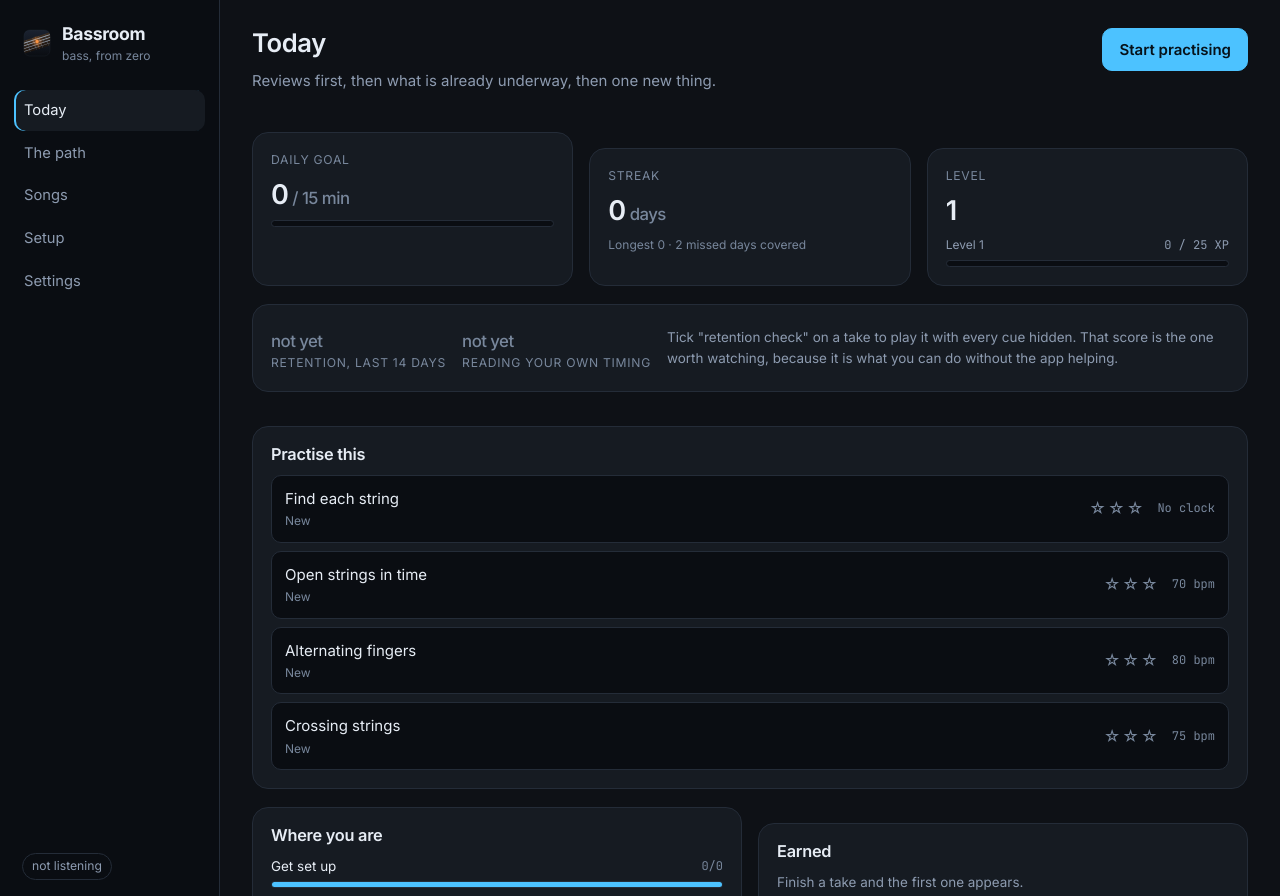
songs › switches song without crashing
Click the button "Songs". click: (110, 196)
box: left=14, top=176, right=205, bottom=216
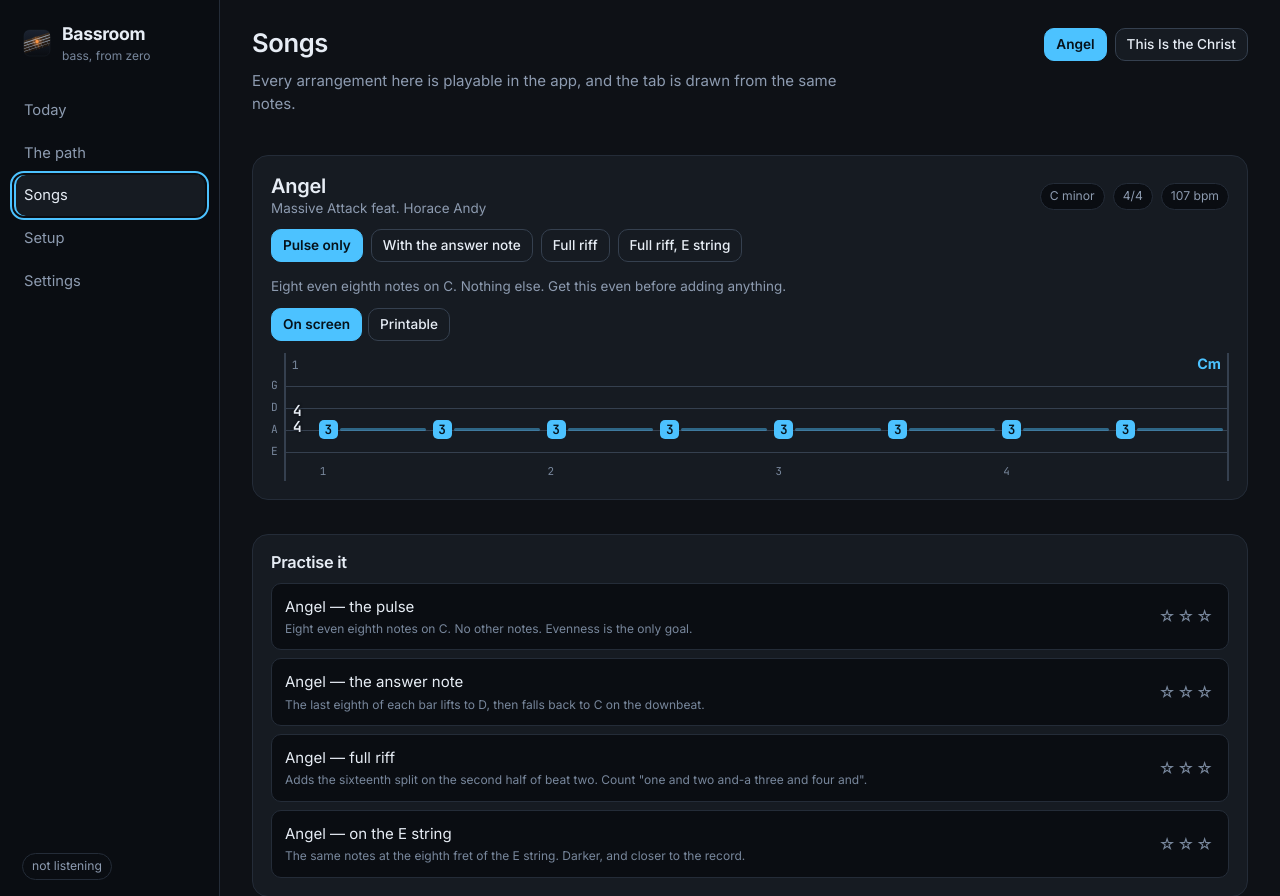
Click the button "This Is the Christ". click: (1181, 45)
box: left=1115, top=28, right=1248, bottom=61
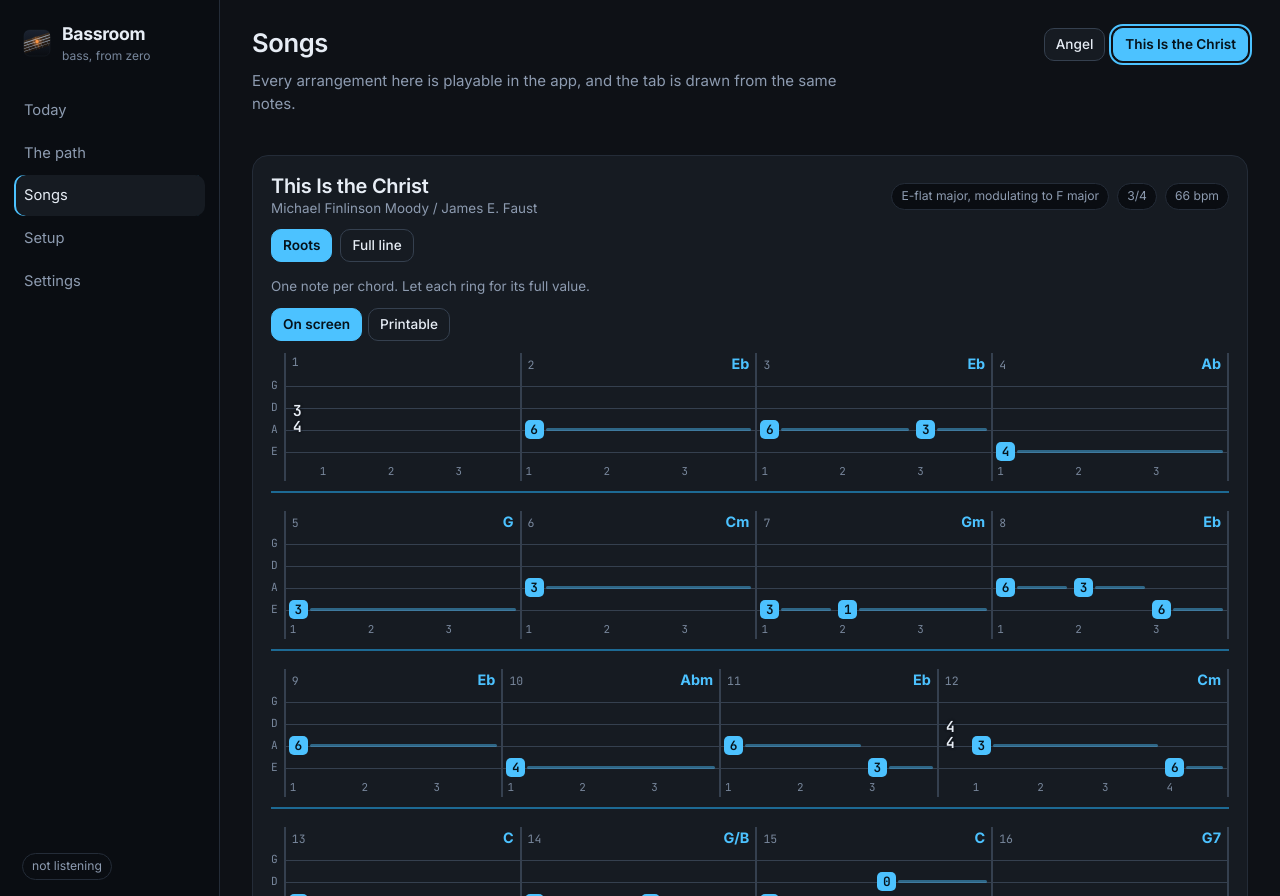
Expected: the heading "This Is the Christ" is shown, left=271, top=174, right=428, bottom=198
